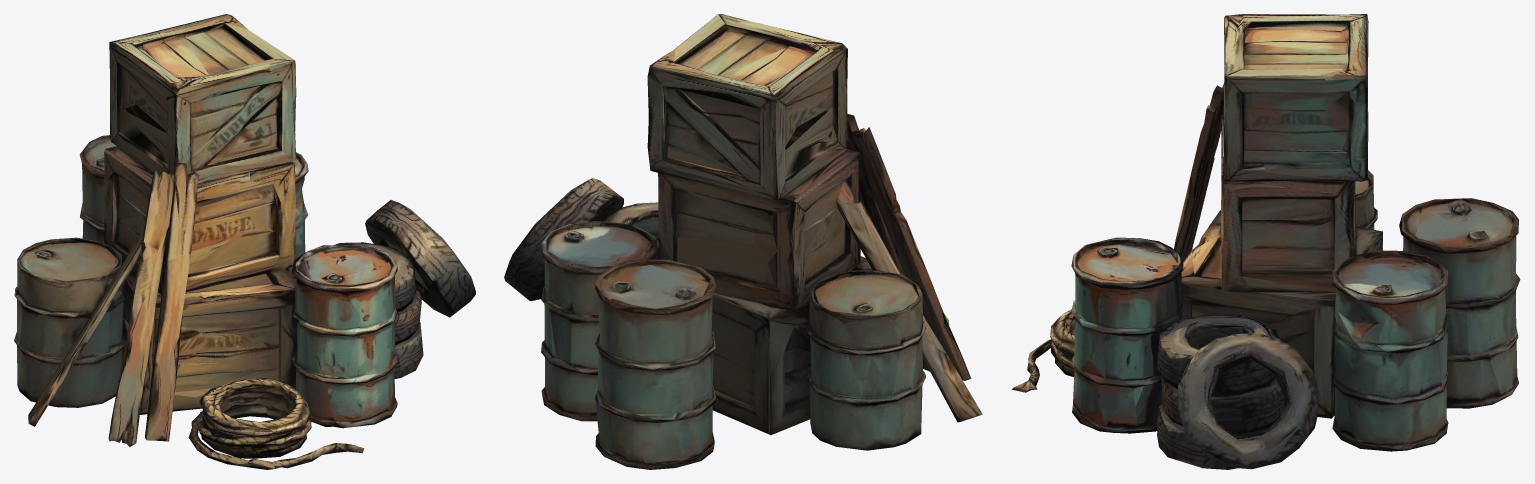
Rendered from wl_junk_pile.glb.
3 views of the same model, side by side, from view 1: azimuth 30°, elevation 25°; view 2: azimuth 150°, elevation 25°; view 3: azimuth 270°, elevation 25° (orthographic). The views are drawn at different scales.
Visible parts, largest first — view 1: wl_junk_pile; view 2: wl_junk_pile; view 3: wl_junk_pile.
Part boxes in pixels (x1,y1,x2,y2): wl_junk_pile: (14,14,475,469); wl_junk_pile: (504,14,982,469); wl_junk_pile: (1012,14,1520,469).
Size of the model in its own units: 2.57 by 1.8 by 2.45.
Materials: 1 (1 with a texture image).
